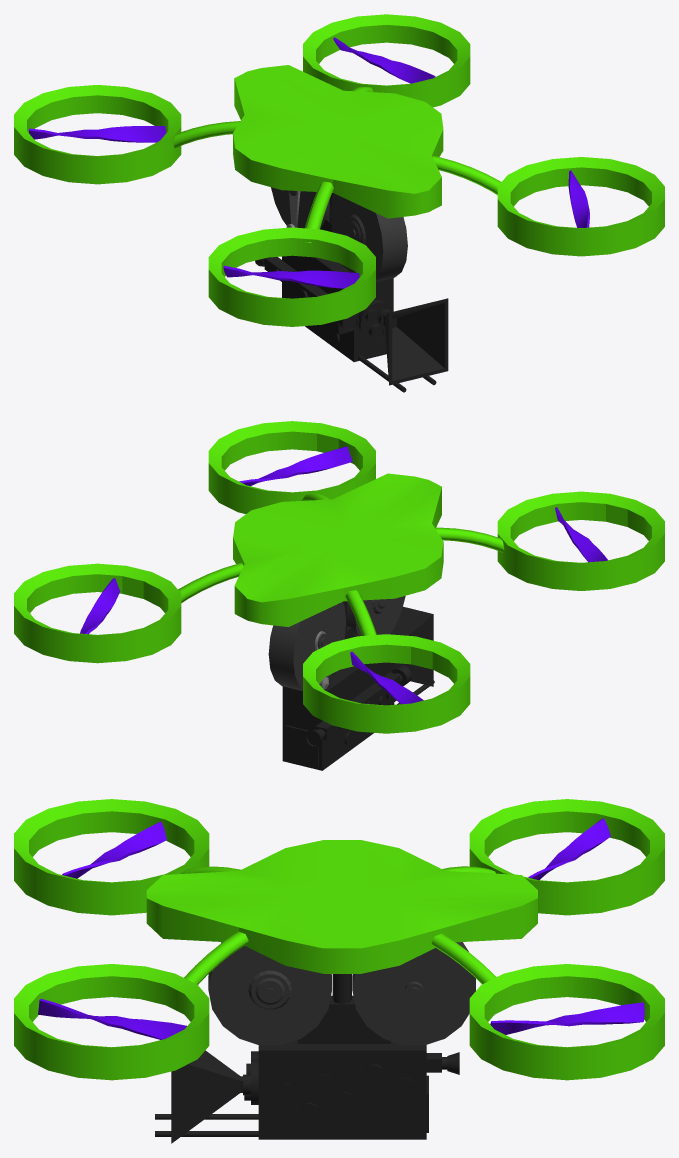
File: DroneThug.FBX
3 renders of one model, top to bottom at view 1: azimuth 30°, elevation 25°; view 2: azimuth 150°, elevation 25°; view 3: azimuth 270°, elevation 25°, orthographic. The views are drawn at different scales.
Visible parts, largest first — view 1: Box001, Camera, Cylinder026, Box003, Box005, Box002, Cylinder027, Box004; view 2: Box001, Camera, Cylinder027, Box004, Cylinder026, Box002, Box003, Box005; view 3: Box001, Camera, Cylinder026, Cylinder027, Box002, Box004, Box005, Box003.
Boxes of the visible parts, box(x1,y1,x2,y2) form: Box001: box(14, 14, 664, 326); Camera: box(255, 193, 448, 392); Cylinder026: box(330, 193, 407, 281); Box003: box(29, 126, 166, 142); Box005: box(223, 265, 359, 288); Box002: box(333, 37, 435, 83); Cylinder027: box(271, 187, 329, 229); Box004: box(568, 170, 589, 227); Box001: box(14, 421, 664, 733); Camera: box(282, 601, 434, 770); Cylinder027: box(268, 602, 346, 690); Box004: box(239, 446, 352, 486); Cylinder026: box(347, 596, 405, 636); Box002: box(80, 578, 120, 634); Box003: box(350, 651, 423, 704); Box005: box(555, 507, 607, 562); Box001: box(14, 799, 664, 1080); Camera: box(155, 974, 459, 1143); Cylinder026: box(208, 942, 331, 1045); Cylinder027: box(352, 942, 475, 1045); Box002: box(490, 1002, 644, 1034); Box004: box(38, 998, 186, 1039); Box005: box(62, 821, 166, 878); Box003: box(528, 818, 610, 880).
Bounding box in the file's own units: 166 × 73.81 × 183.
